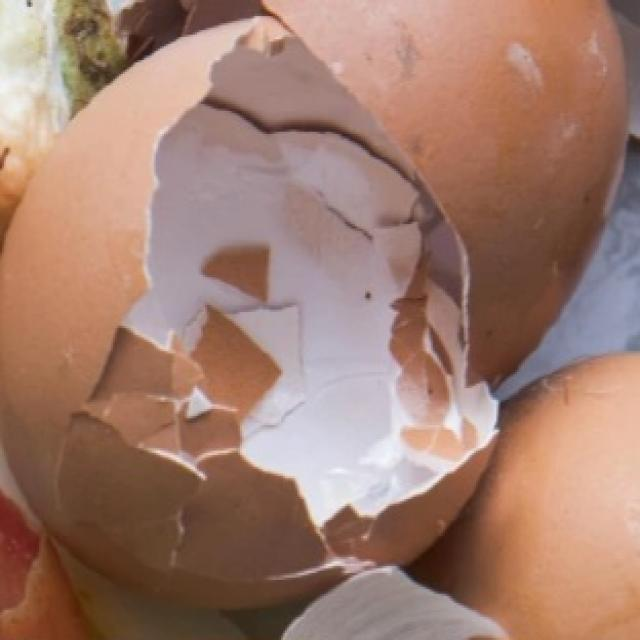food waste: (11, 0, 640, 622)
